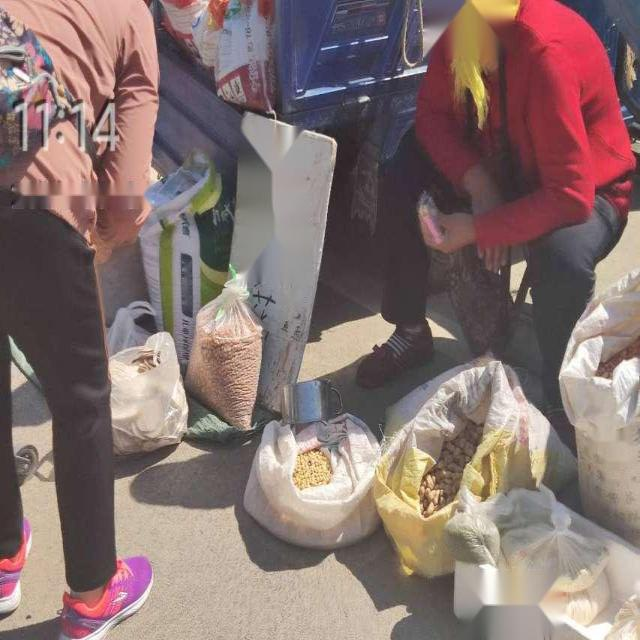fixed_stall: (104, 102, 633, 633)
